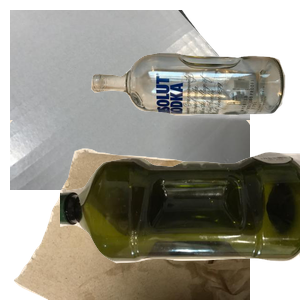cardboard: (10, 10, 250, 190)
glass: (88, 50, 300, 158)
plastic: (60, 149, 300, 300)
trash: (10, 120, 250, 300)
